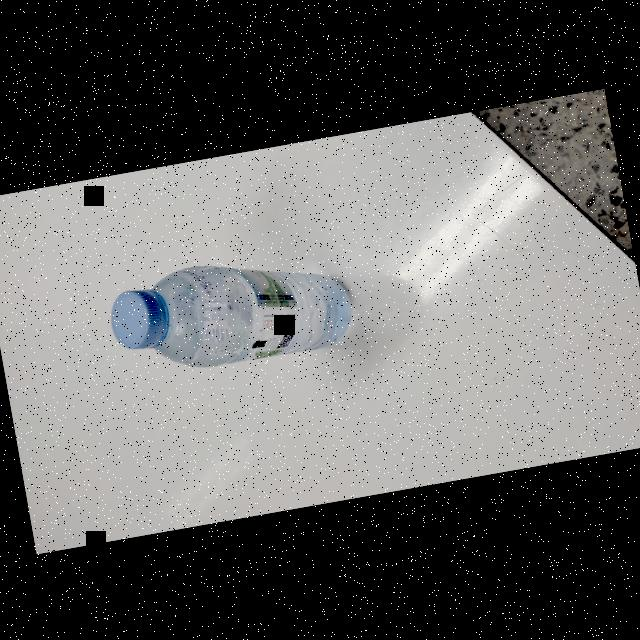plastic_bottle: (97, 234, 368, 390)
plastic_bottle_cap: (106, 284, 167, 350)
